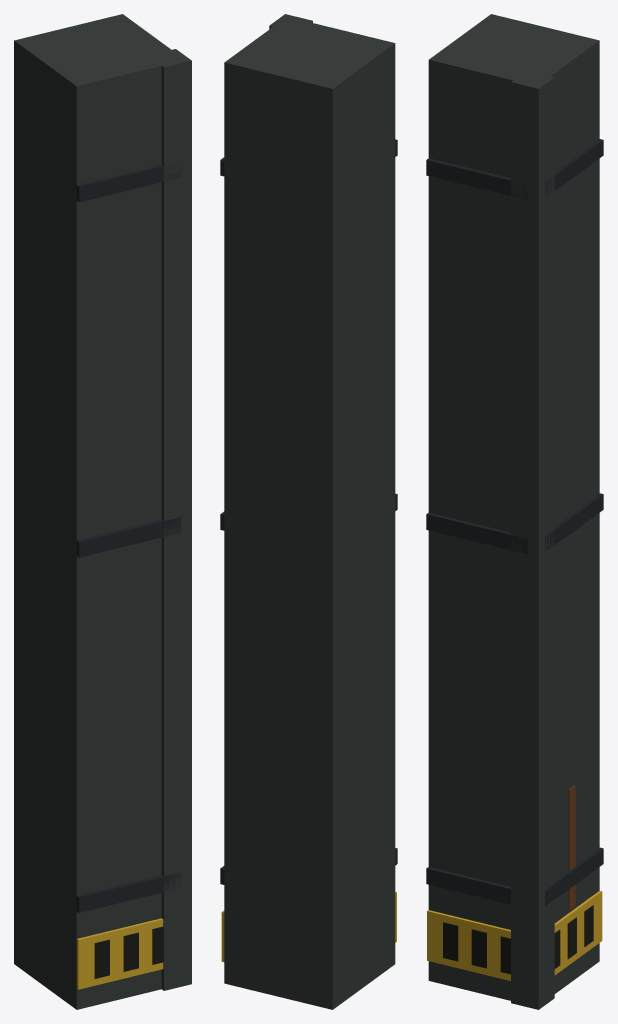
The model's file is wall_corner.glb.
The picture shows the model from 3 angles, left to right: view 1: azimuth 30°, elevation 25°; view 2: azimuth 150°, elevation 25°; view 3: azimuth 330°, elevation 25°; orthographic projection.
Parts seen in each view (by area): view 1: wall_corner; view 2: wall_corner; view 3: wall_corner.
Part boxes in pixels (x1=…): wall_corner: x1=14, y1=14, x2=191, y2=1009; wall_corner: x1=220, y1=14, x2=397, y2=1009; wall_corner: x1=426, y1=14, x2=603, y2=1009.
Bounding box in the file's own units: 0.332 × 2.6 × 0.332.
